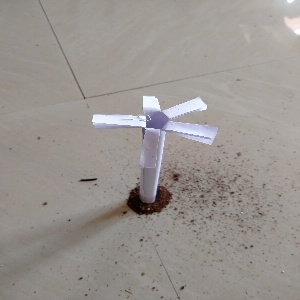weed: (92, 83, 214, 197)
